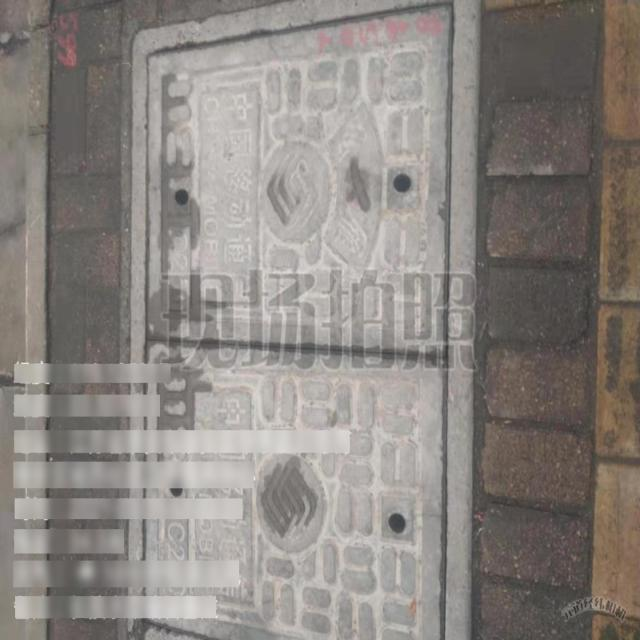Good: (123, 1, 479, 640)
